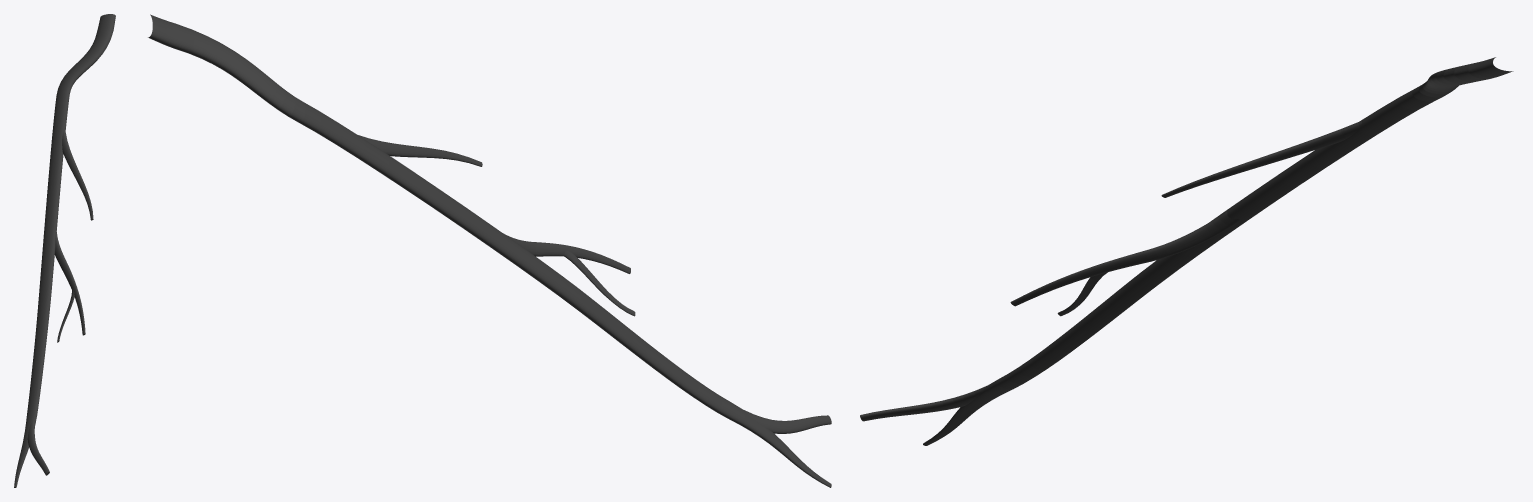
File: N_5_trigeminus_maxillary_pterygopalatine_caudalnasal.glb
3 renders of one model, left to right at view 1: azimuth 30°, elevation 25°; view 2: azimuth 150°, elevation 25°; view 3: azimuth 270°, elevation 25°, orthographic. The views are drawn at different scales.
Parts seen in each view (by area): view 1: N_5_trigeminus_maxillary_pterygopalatine_caudalnasal; view 2: N_5_trigeminus_maxillary_pterygopalatine_caudalnasal; view 3: N_5_trigeminus_maxillary_pterygopalatine_caudalnasal.
Boxes of the visible parts, box(x1,y1,x2,y2) form: N_5_trigeminus_maxillary_pterygopalatine_caudalnasal: box(14, 14, 115, 487); N_5_trigeminus_maxillary_pterygopalatine_caudalnasal: box(148, 14, 831, 487); N_5_trigeminus_maxillary_pterygopalatine_caudalnasal: box(860, 57, 1513, 445).
Size of the model in its own units: 0.02 by 0.0244 by 0.0234.
Materials: 1 (1 with a texture image).
